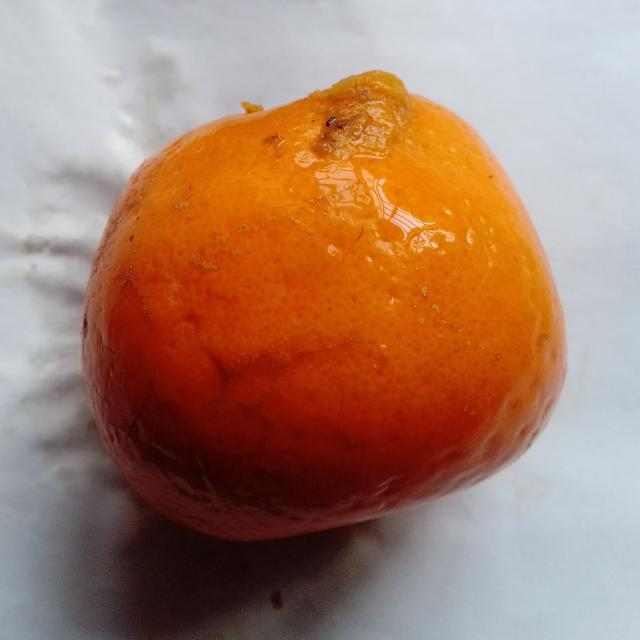orange: (84, 72, 565, 539)
